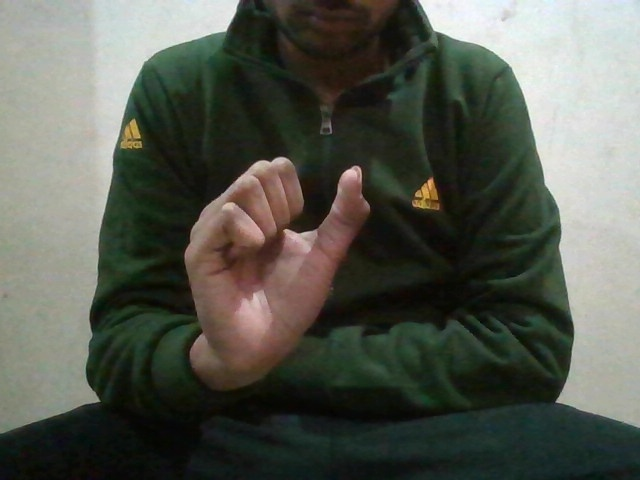S: (175, 149, 376, 367)
